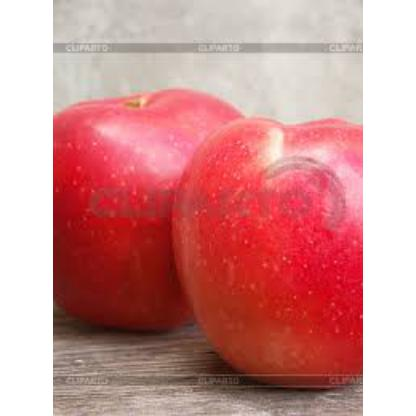apple: (170, 118, 358, 378), (54, 84, 240, 336)
